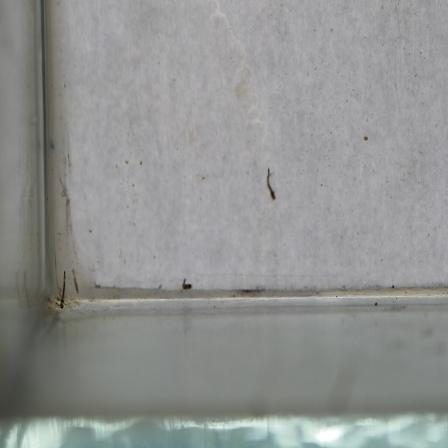Jentik-Nyamuk: (55, 266, 70, 315), (263, 165, 279, 203), (177, 276, 195, 295)
